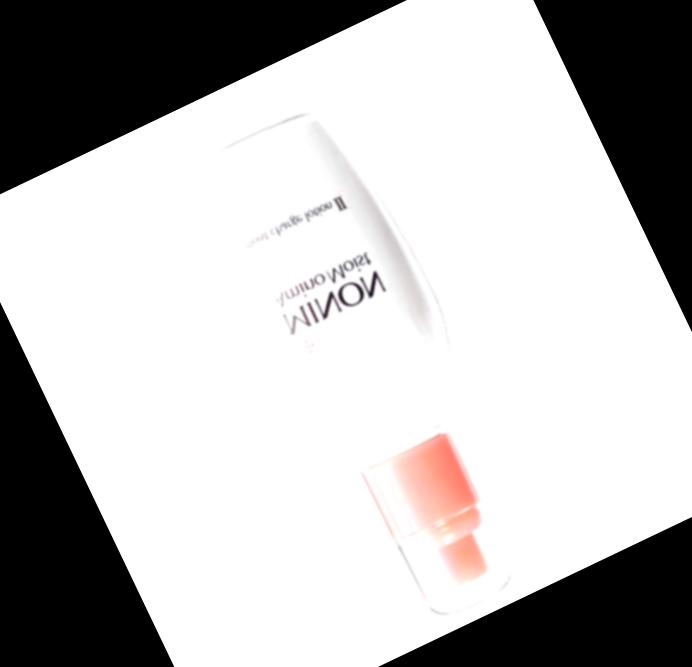cosmetic: (164, 88, 567, 649)
